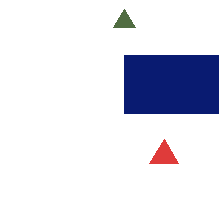rectangle: (124, 55, 218, 113)
triangle: (149, 139, 178, 163), (113, 9, 135, 27)
